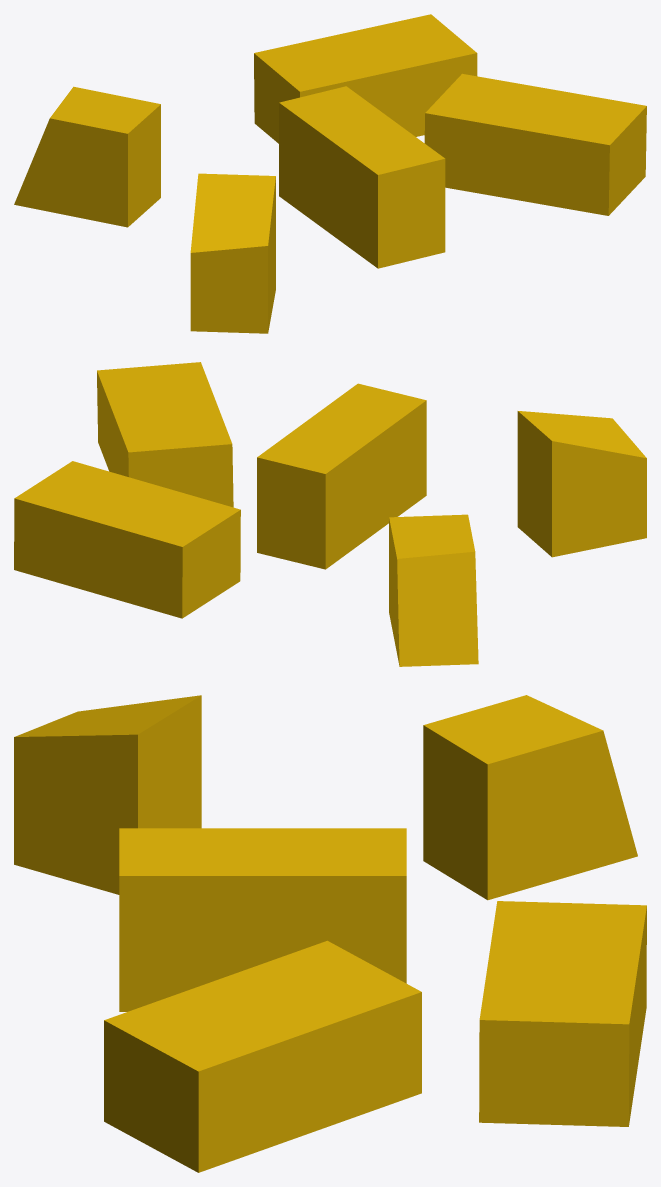
Rendered from Cinderblock_Pile_02_Lod1.fbx.
3 renders of one model, top to bottom at view 1: azimuth 30°, elevation 25°; view 2: azimuth 150°, elevation 25°; view 3: azimuth 270°, elevation 25°, orthographic. The views are drawn at different scales.
Parts seen in each view (by area): view 1: Cinderblock_Pile_02_Lod1; view 2: Cinderblock_Pile_02_Lod1; view 3: Cinderblock_Pile_02_Lod1.
Boxes of the visible parts, box(x1,y1,x2,y2) form: Cinderblock_Pile_02_Lod1: box(14, 14, 646, 333); Cinderblock_Pile_02_Lod1: box(14, 362, 646, 666); Cinderblock_Pile_02_Lod1: box(14, 695, 646, 1172).
Bounding box in the file's own units: 150 × 32.55 × 113.
